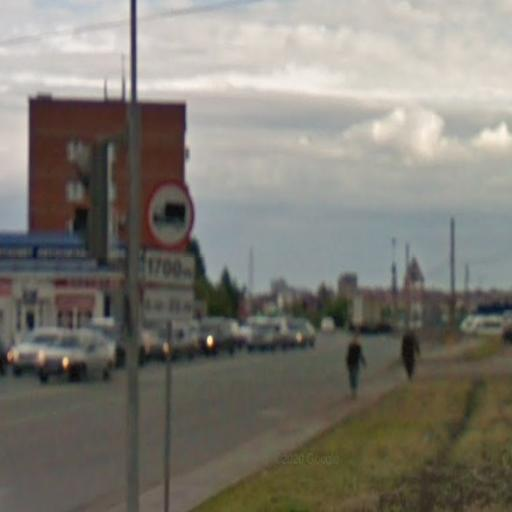traffic_sign: (143, 175, 198, 258)
